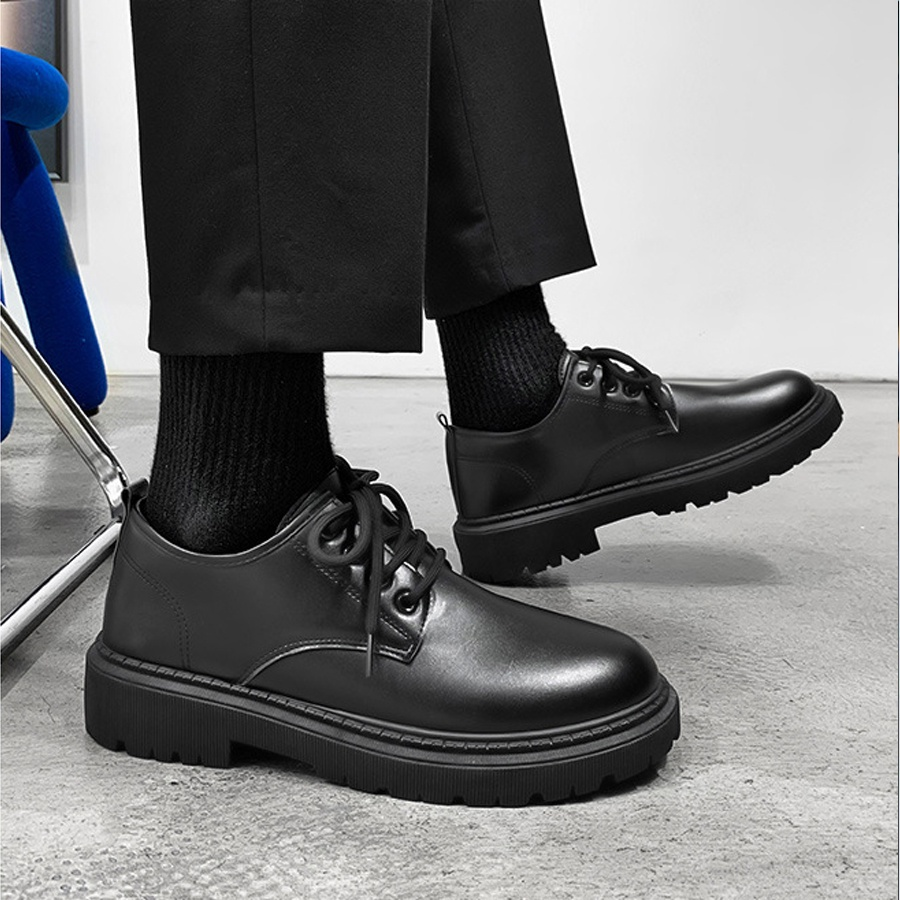derby: (67, 456, 686, 812), (433, 348, 843, 583)
